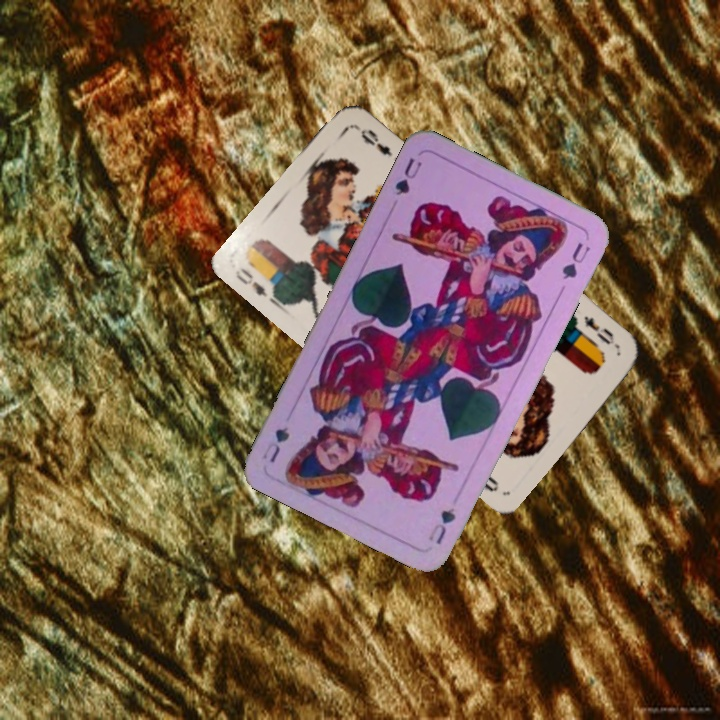EO: (231, 263, 282, 308), (580, 311, 623, 352)
GU: (391, 153, 425, 199), (424, 503, 459, 547)
